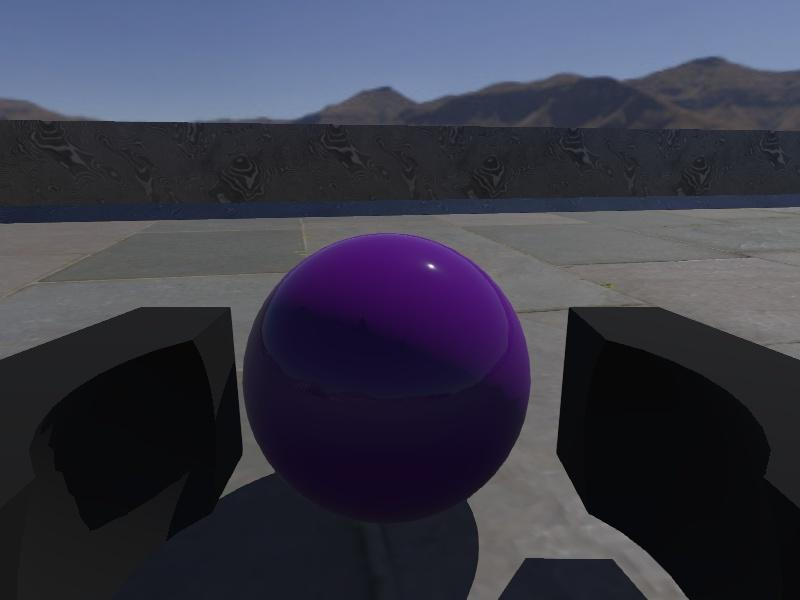violet ball: (242, 231, 533, 526)
